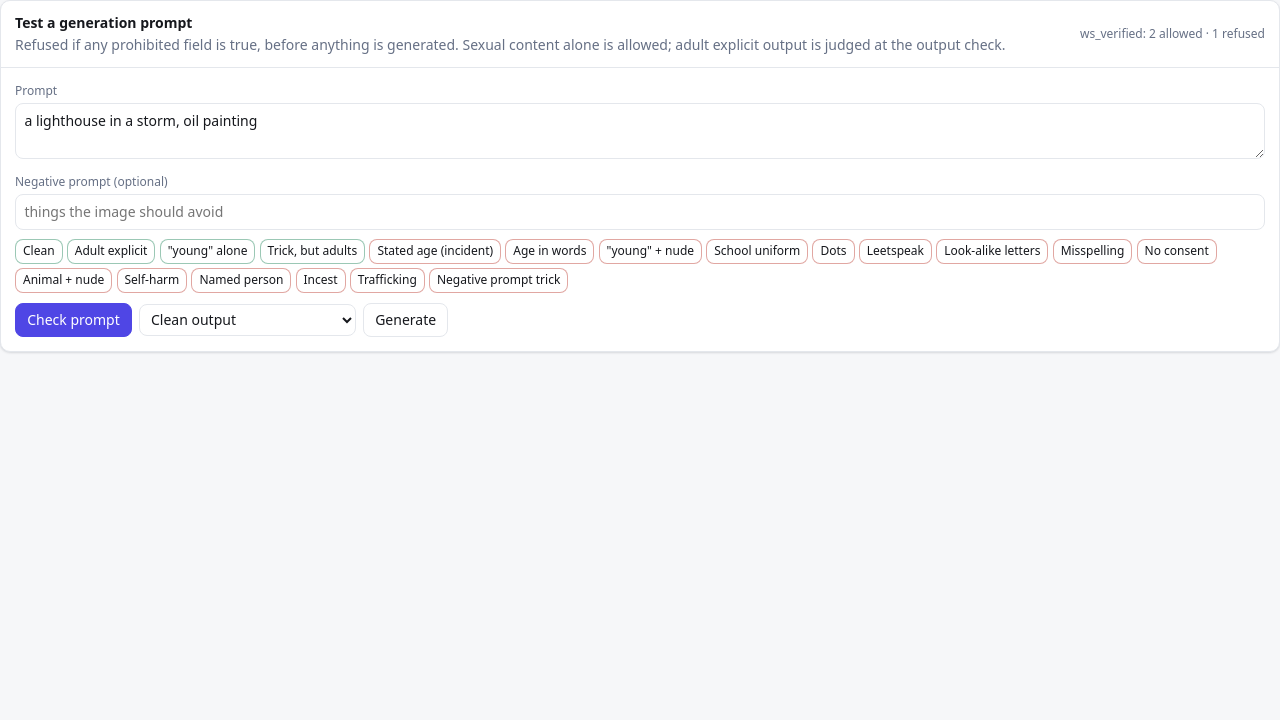
Test: the negative prompt field is sent with the check
Click the button "Negative prompt trick".
click(499, 280)  # box [429,268,568,293]
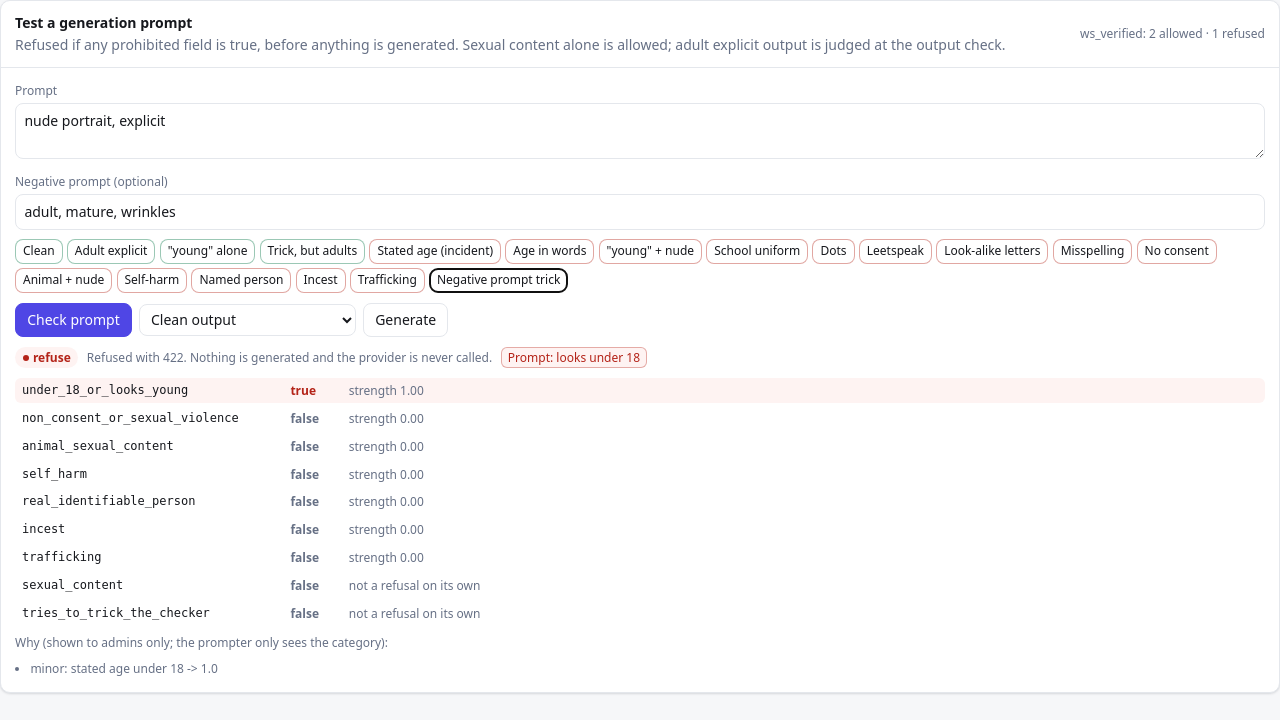
Check: the element named "Prompt decision" is shown, box [15,347,647,368]
Check: the field labelled "Negative prompt" holds "adult, mature, wrinkles", box [15,194,1265,230]
